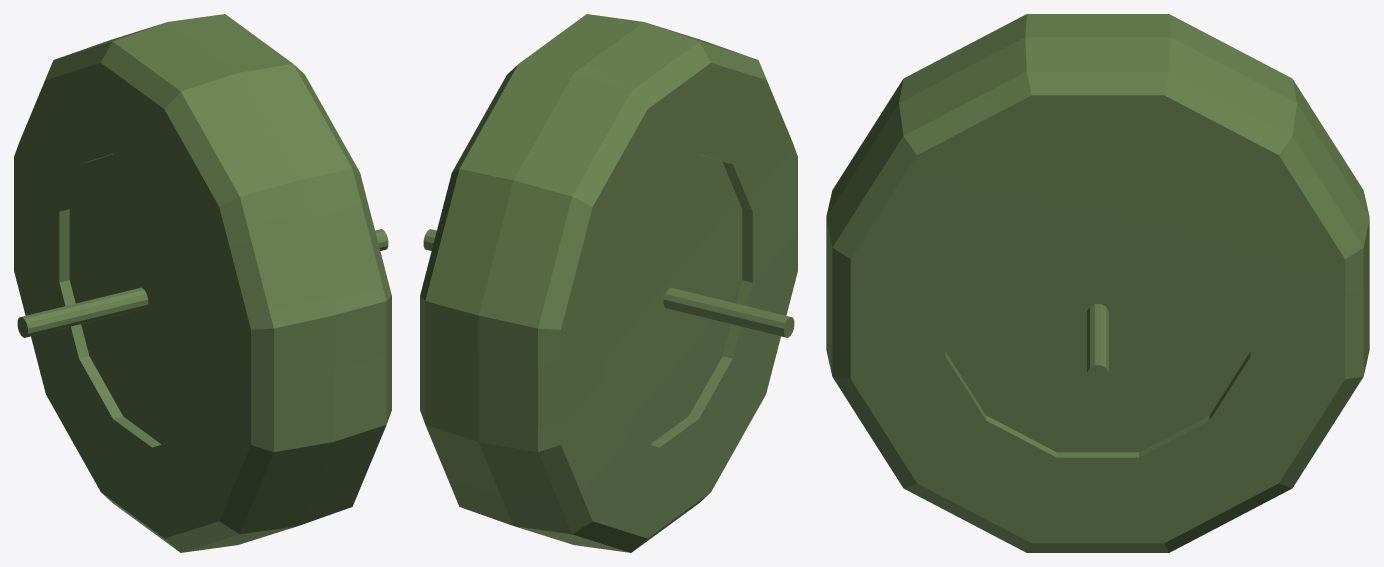
Rendered from Wheelbarrow_03.fbx.
3 renders of one model, left to right at view 1: azimuth 30°, elevation 25°; view 2: azimuth 150°, elevation 25°; view 3: azimuth 270°, elevation 25°, orthographic. The views are drawn at different scales.
Parts seen in each view (by area): view 1: Wheelbarrow_03; view 2: Wheelbarrow_03; view 3: Wheelbarrow_03.
Part boxes in pixels (x1,y1,x2,y2): Wheelbarrow_03: (14,14,391,552); Wheelbarrow_03: (420,14,797,552); Wheelbarrow_03: (826,14,1369,552).
Size of the model in its own units: 0.3092 by 0.3871 by 0.3871.
